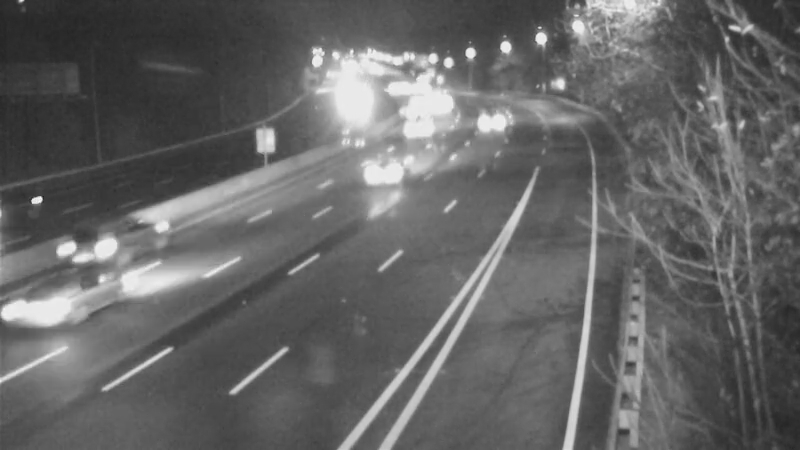vehicle: (1, 253, 103, 363), (344, 128, 424, 208), (46, 199, 126, 279), (364, 61, 414, 111), (406, 68, 456, 118), (420, 77, 470, 127), (391, 78, 441, 128), (465, 92, 515, 142), (394, 100, 444, 150)
